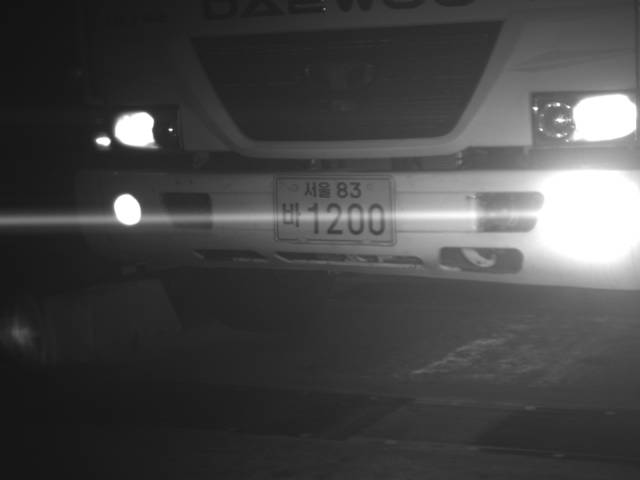car: (77, 1, 640, 329)
plate: (273, 173, 400, 248)
